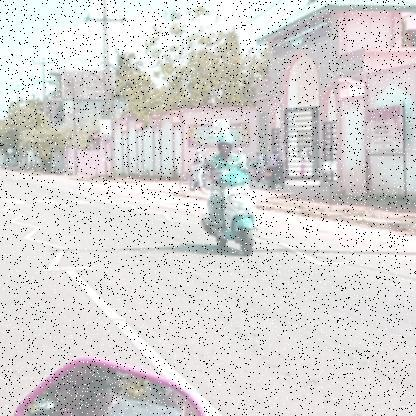motorcycle: (197, 171, 261, 258)
